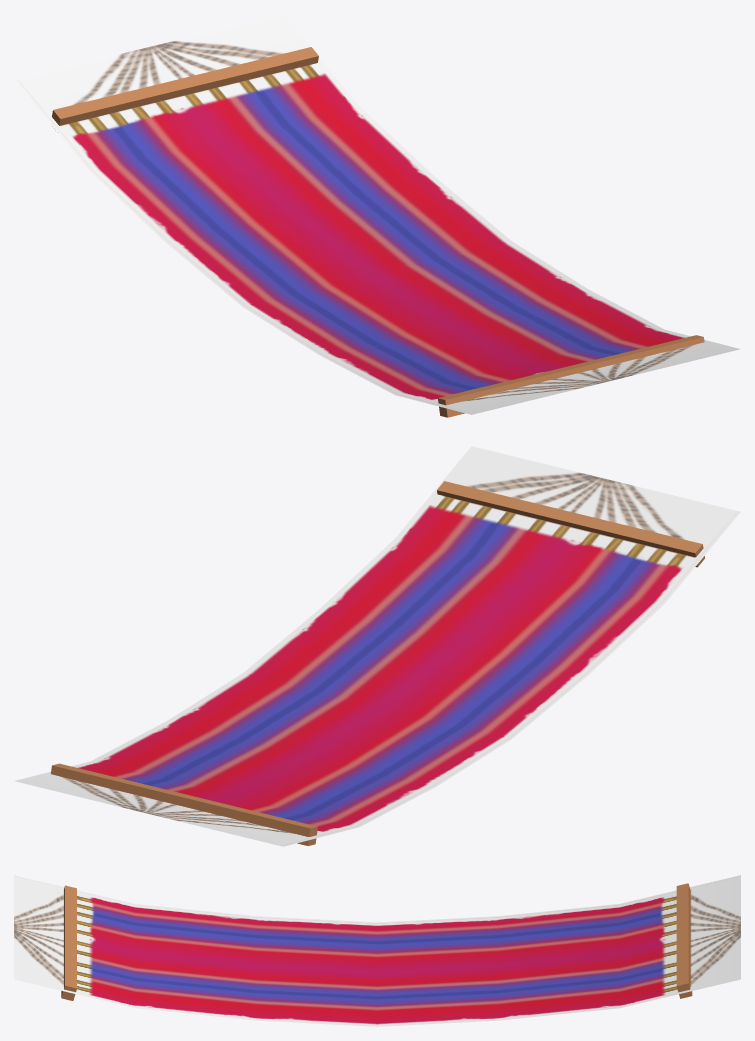
Rendered from hammockbed.FBX.
3 renders of one model, top to bottom at view 1: azimuth 30°, elevation 25°; view 2: azimuth 150°, elevation 25°; view 3: azimuth 270°, elevation 25°, orthographic. The views are drawn at different scales.
Visible parts, largest first — view 1: Plane002; view 2: Plane002; view 3: Plane002.
Part boxes in pixels (x1,y1,x2,y2): Plane002: (14,14,740,417); Plane002: (14,446,740,846); Plane002: (14,875,740,1026).
Size of the model in its own units: 87.96 by 18.6 by 259.
